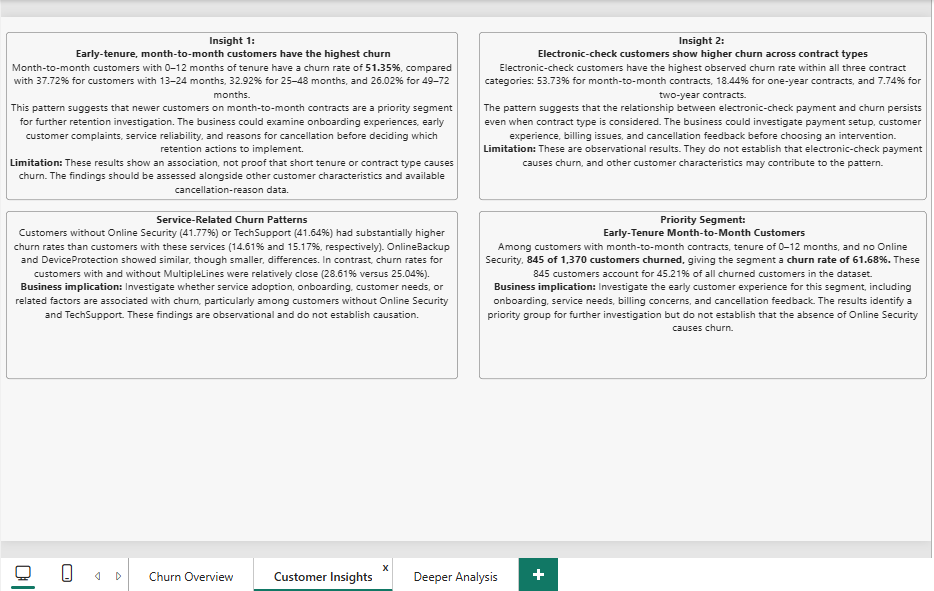

What the dashboard file says about the page in this screenshot:
{"tool":"powerbi","page":{"name":"Customer Insights","canvas":[1920,1080],"ordinal":1},"visuals":[{"type":"textbox","box":[10.8,30,932.5,347],"z":0},{"type":"textbox","box":[986.7,30,923.9,347],"z":1000},{"type":"textbox","box":[10.8,400,932.5,347],"z":2000},{"type":"textbox","box":[986.7,400,923.9,347],"z":3000}]}

Visuals, with their boxes on the page's 1920x1080 design canvas (x1, y1, x2, y2). These are canvas units, not pixel positions in the 934x591 screenshot, which may show the page scaled, cropped or inside an application window:
textbox: (x1=11, y1=30, x2=943, y2=377)
textbox: (x1=987, y1=30, x2=1911, y2=377)
textbox: (x1=11, y1=400, x2=943, y2=747)
textbox: (x1=987, y1=400, x2=1911, y2=747)
